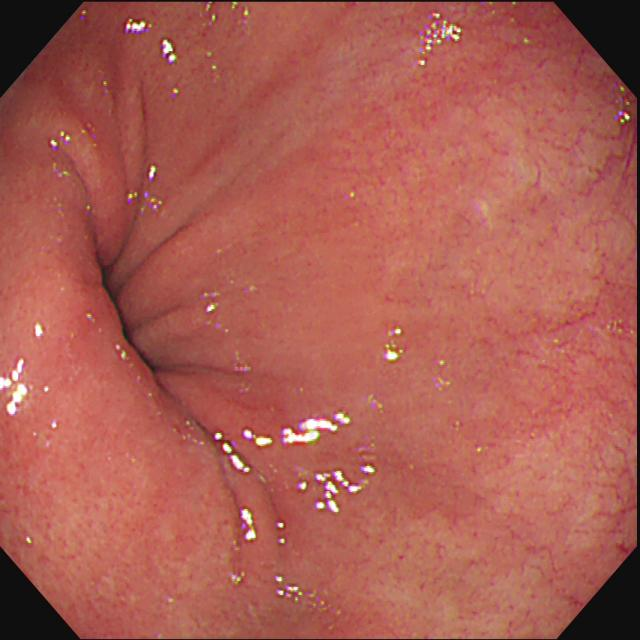I: (54, 178, 222, 441)
U: (216, 410, 381, 545), (416, 11, 464, 66), (2, 354, 33, 417), (270, 573, 308, 609), (380, 323, 412, 364), (612, 81, 636, 128), (157, 36, 181, 66), (48, 128, 77, 152), (124, 16, 154, 37)
